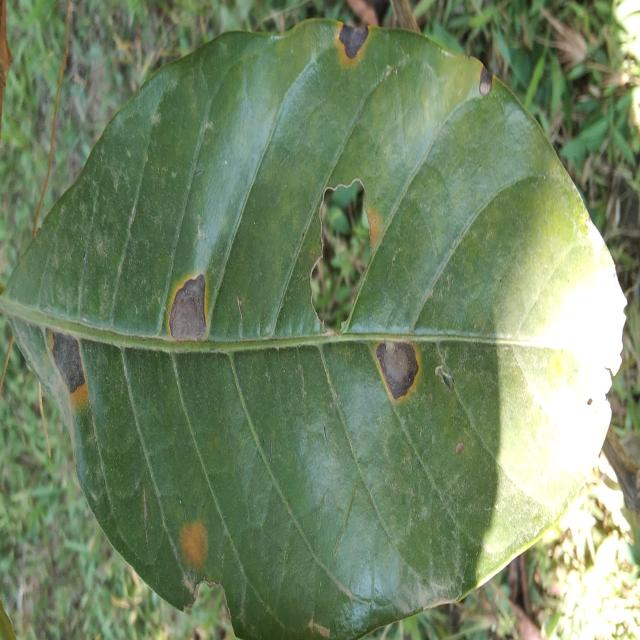Enfermedad-Mancha-de-hierro: (3, 21, 625, 640)
